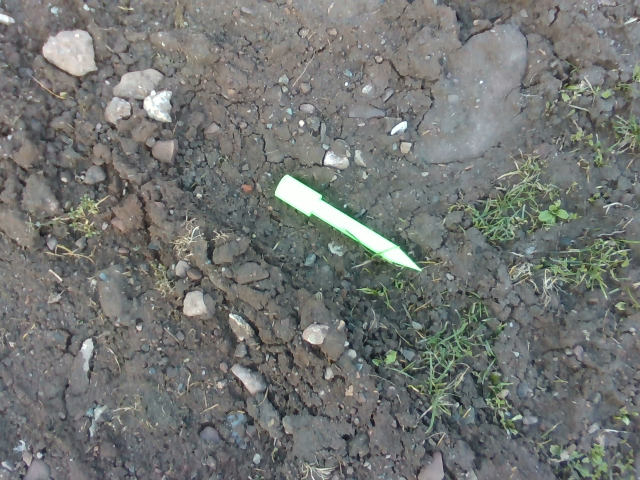Probe: (269, 171, 428, 275)
